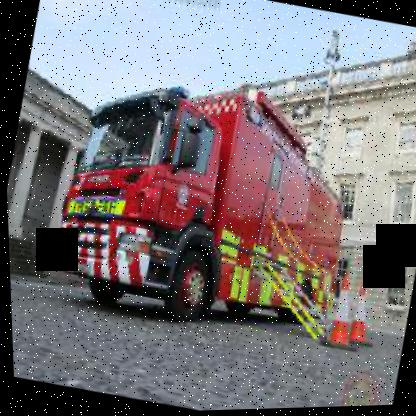emergency: (17, 56, 401, 361)
